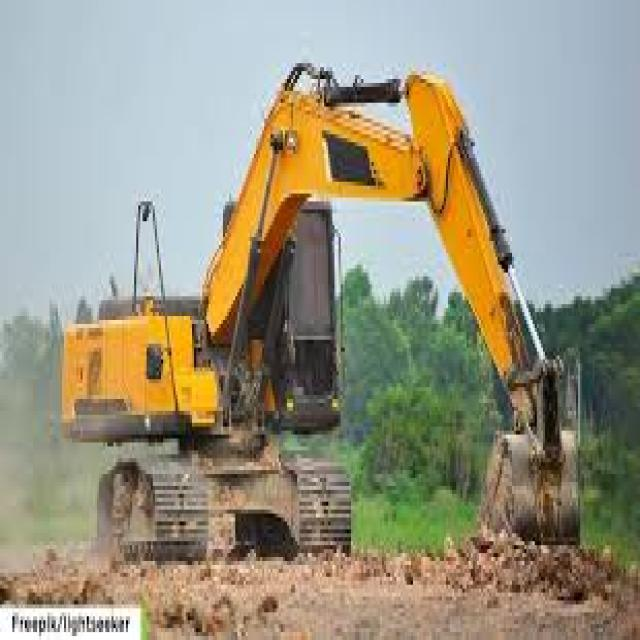excavator: (49, 25, 597, 595)
